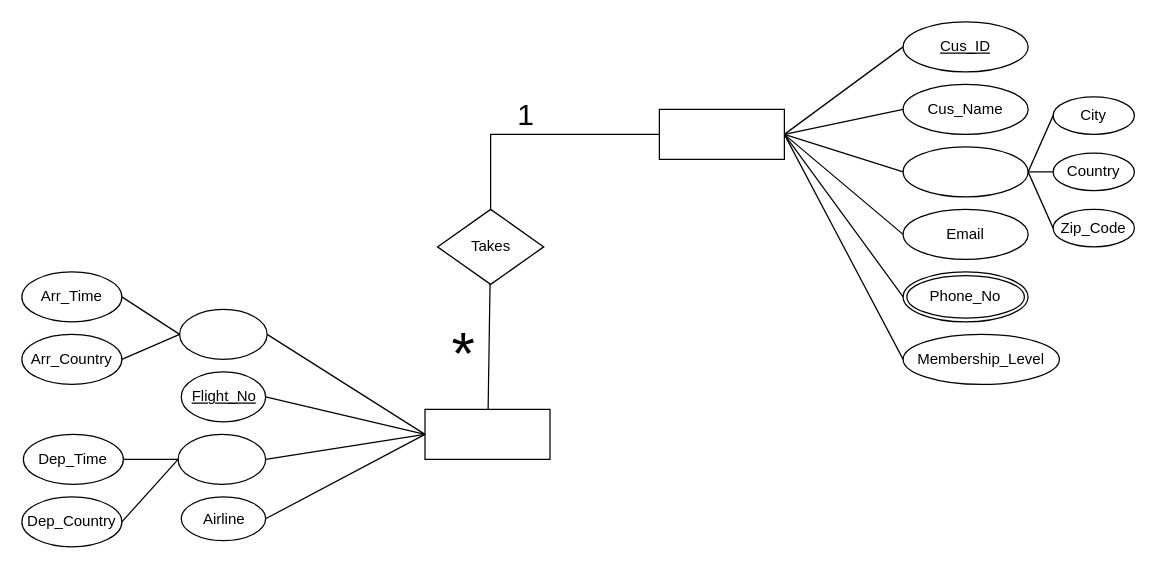
This 1156x569 diagram has some shape labels left out. Here are the shapes that lost their labels. From the top down, the centre of each, then its label:
point (721, 133): Customer
point (965, 171): Address
point (222, 333): Arrival
point (487, 433): Flight
point (221, 458): Departure
